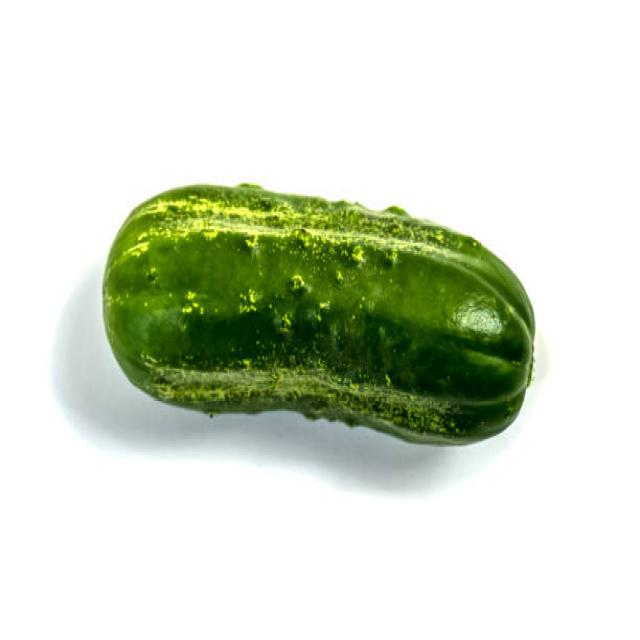cucumber: (103, 180, 535, 450)
